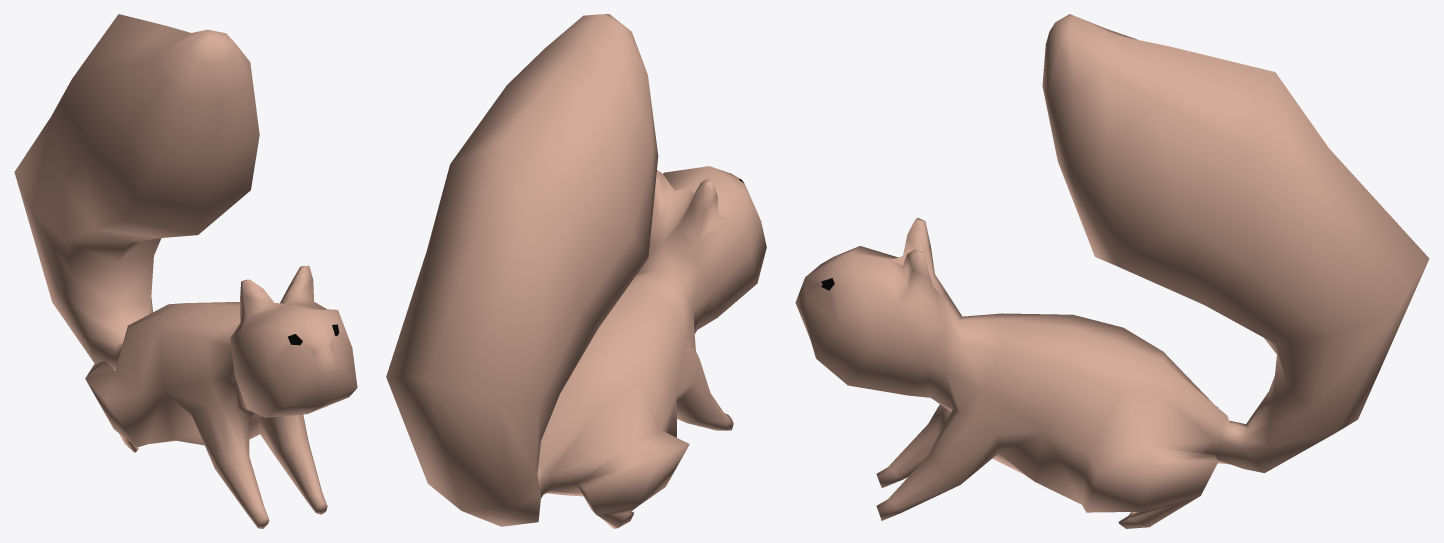
The model's file is Squirrel_Mdl.fbx.
3 renders of one model, left to right at view 1: azimuth 30°, elevation 25°; view 2: azimuth 150°, elevation 25°; view 3: azimuth 270°, elevation 25°, orthographic. The views are drawn at different scales.
Visible parts, largest first — view 1: Cube; view 2: Cube; view 3: Cube.
Boxes of the visible parts, x1=… form: Cube: x1=14, y1=14, x2=357, y2=528; Cube: x1=386, y1=14, x2=766, y2=528; Cube: x1=795, y1=14, x2=1429, y2=528.
Bounding box in the file's own units: 8.89 × 20.05 × 23.61.
